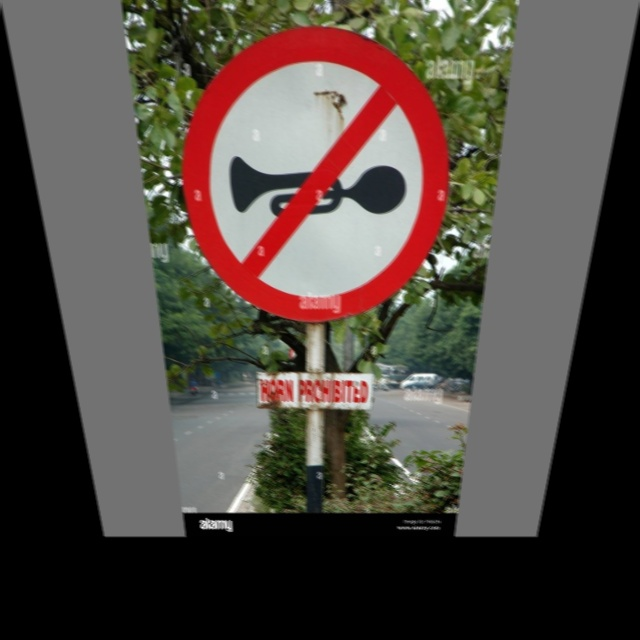Horn_Prohibited: (177, 31, 460, 315)
